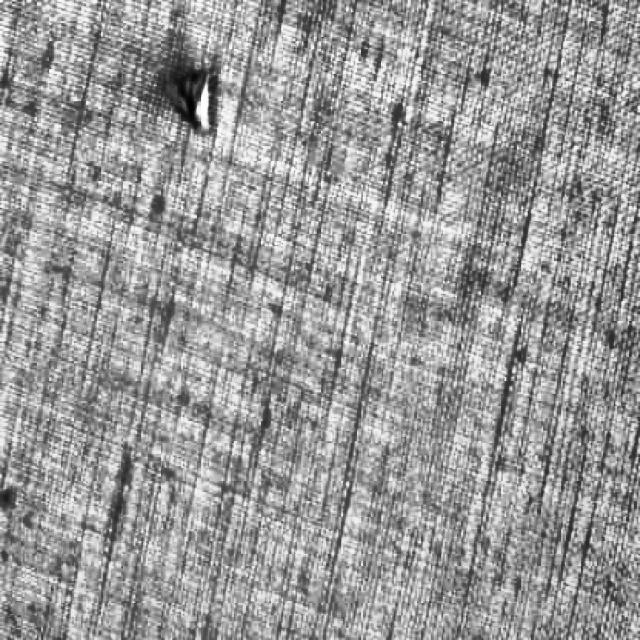objects: (152, 58, 235, 150)
